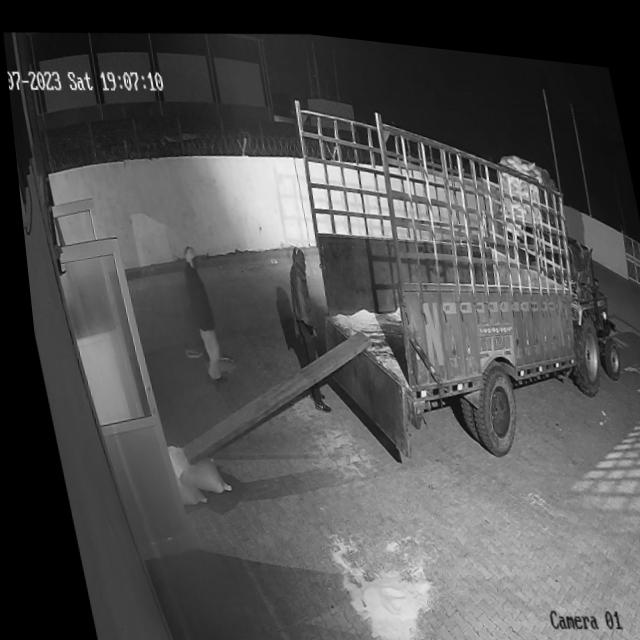sack: (157, 435, 223, 496)
